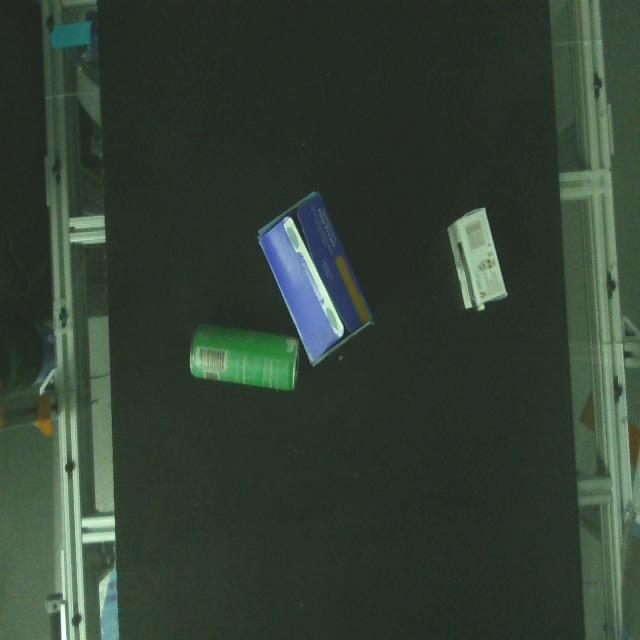non-paper: (181, 318, 303, 396)
paper: (257, 186, 390, 366), (439, 201, 514, 327)
